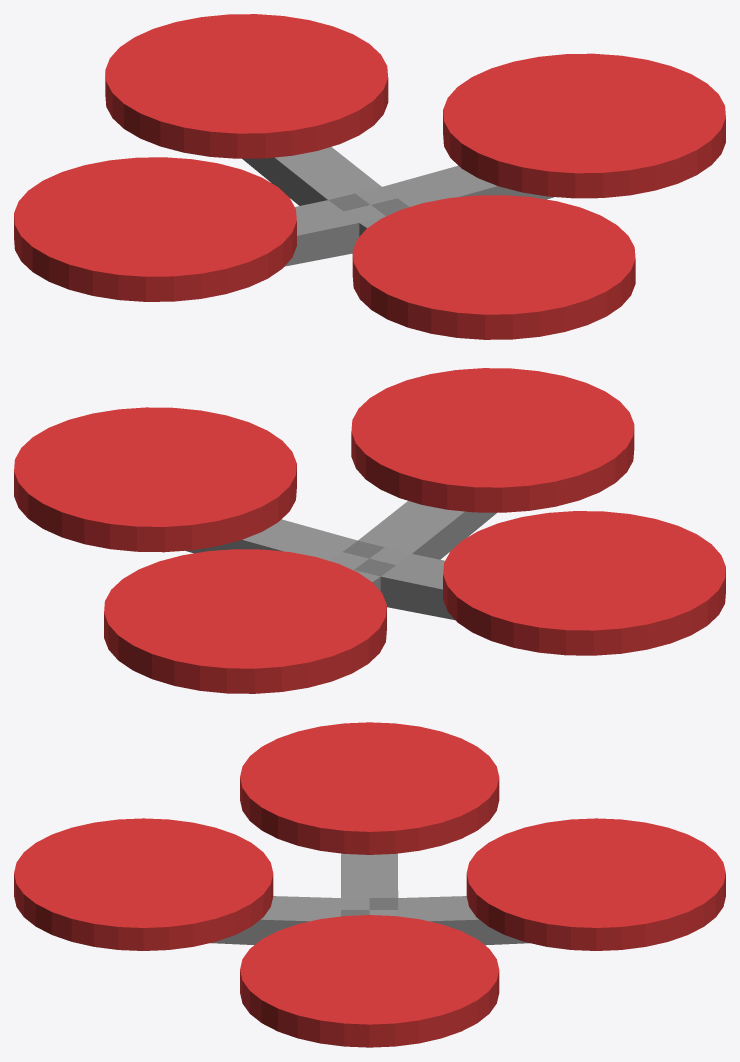
The model's file is drone.obj.
3 views of the same model, one above another, from view 1: azimuth 30°, elevation 25°; view 2: azimuth 150°, elevation 25°; view 3: azimuth 270°, elevation 25° (orthographic). The views are drawn at different scales.
Parts seen in each view (by area): view 1: Cube_Cube.002; view 2: Cube_Cube.002; view 3: Cube_Cube.002.
Part boxes in pixels (x1,y1,x2,y2): Cube_Cube.002: [14, 14, 725, 339]; Cube_Cube.002: [14, 368, 725, 693]; Cube_Cube.002: [14, 722, 725, 1047].
Size of the model in its own units: 0.9438 by 0.0932 by 0.9429.
Materials: 1 (1 with a texture image).
